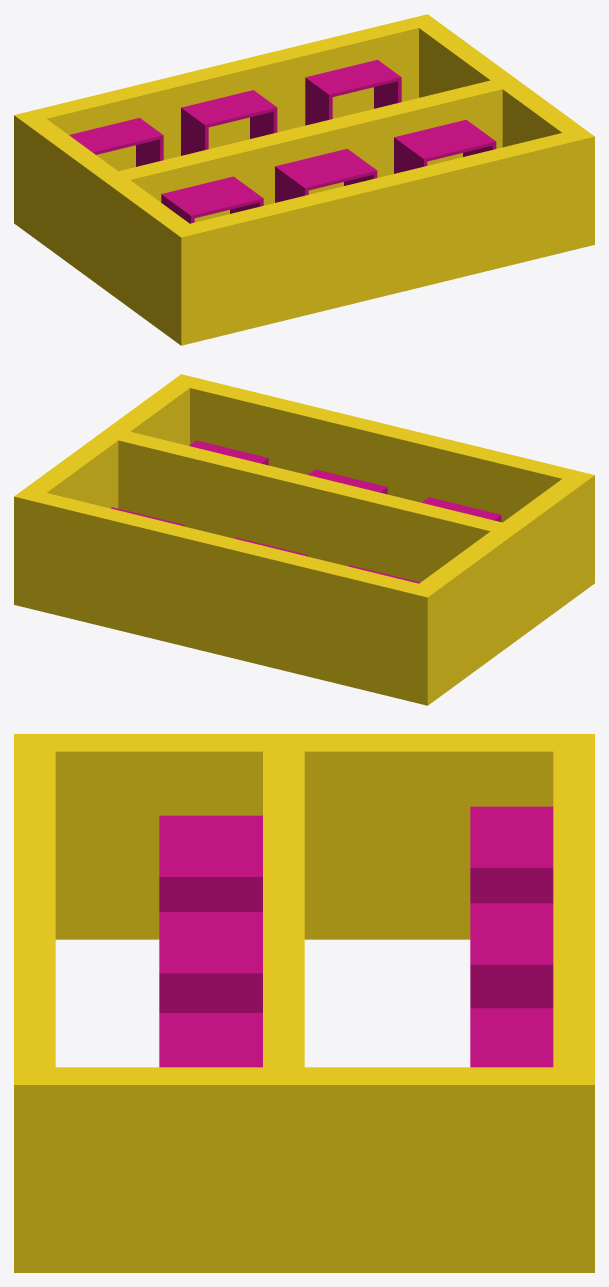
File: tinker.obj
3 views of the same model, one above another, from view 1: azimuth 30°, elevation 25°; view 2: azimuth 150°, elevation 25°; view 3: azimuth 270°, elevation 25° (orthographic). The views are drawn at different scales.
Parts seen in each view (by area): view 1: group_0_16768282, group_0_14093196; view 2: group_0_16768282, group_0_14093196; view 3: group_0_16768282, group_0_14093196.
Part boxes in pixels (box(x1,y1,x2,y2)): group_0_16768282: box(14, 14, 594, 345); group_0_14093196: box(69, 60, 496, 223); group_0_16768282: box(14, 374, 594, 705); group_0_14093196: box(110, 440, 501, 583); group_0_16768282: box(14, 734, 594, 1272); group_0_14093196: box(159, 806, 553, 1067).
Size of the model in its own units: 40 by 10 by 28.
